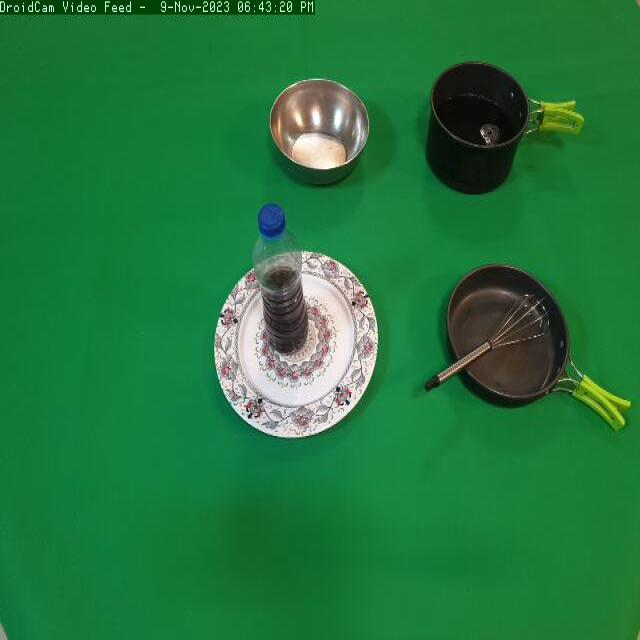bowl: (265, 73, 371, 188)
fullbottle: (250, 196, 315, 368)
fullpot: (415, 52, 587, 208)
pan: (447, 258, 640, 451)
plate: (213, 245, 386, 446)
whisk: (425, 284, 551, 393)
